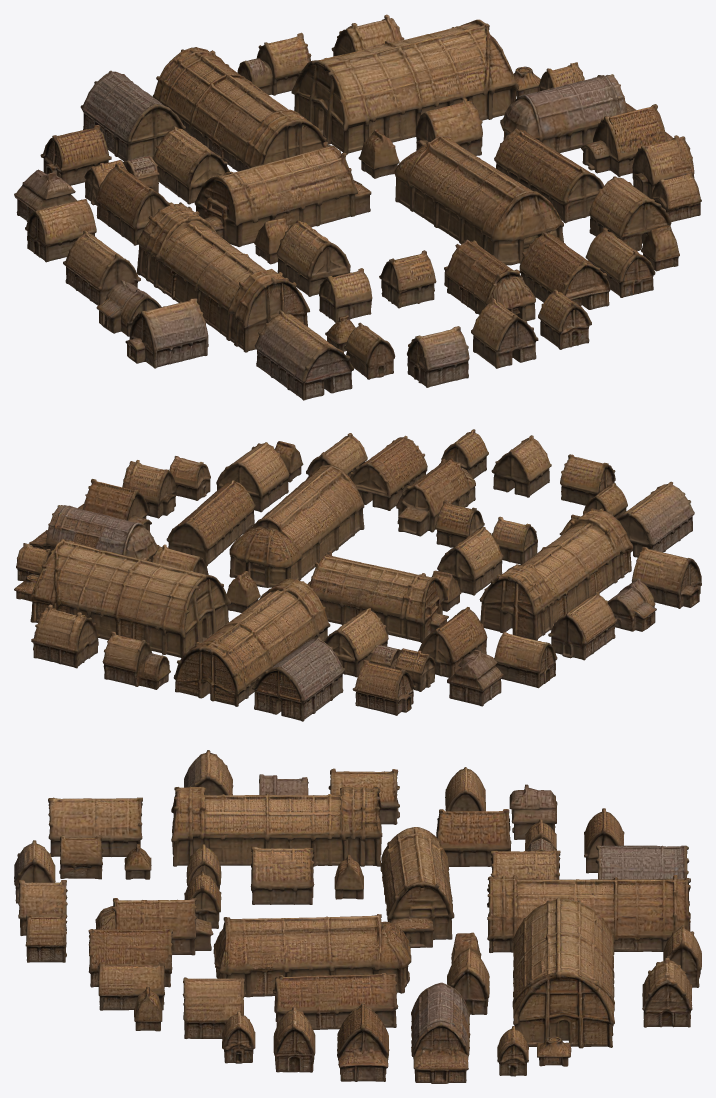
File: Ancient City (North American Native).fbx
3 views of the same model, one above another, from view 1: azimuth 30°, elevation 25°; view 2: azimuth 150°, elevation 25°; view 3: azimuth 270°, elevation 25° (orthographic). The views are drawn at different scales.
Parts seen in each view (by area): view 1: tripo_node_2358c38c; view 2: tripo_node_2358c38c; view 3: tripo_node_2358c38c.
Part boxes in pixels (box(x1,y1,x2,y2)): tripo_node_2358c38c: box(14, 14, 701, 400); tripo_node_2358c38c: box(14, 429, 701, 721); tripo_node_2358c38c: box(14, 750, 701, 1083).
Bounding box in the file's own units: 1 × 0.116 × 0.9952.
